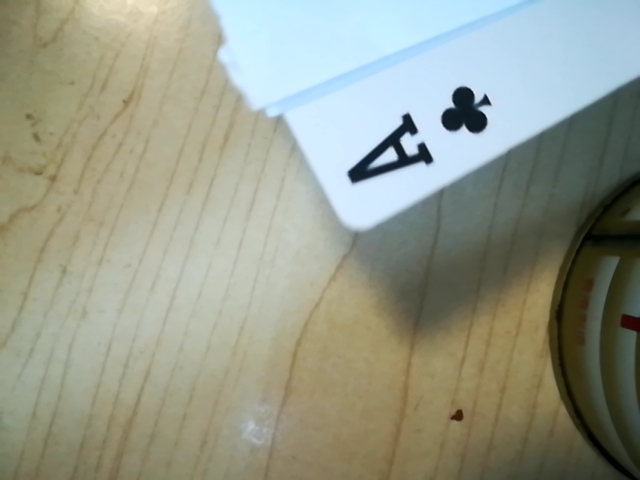mh a: (333, 77, 509, 205)
